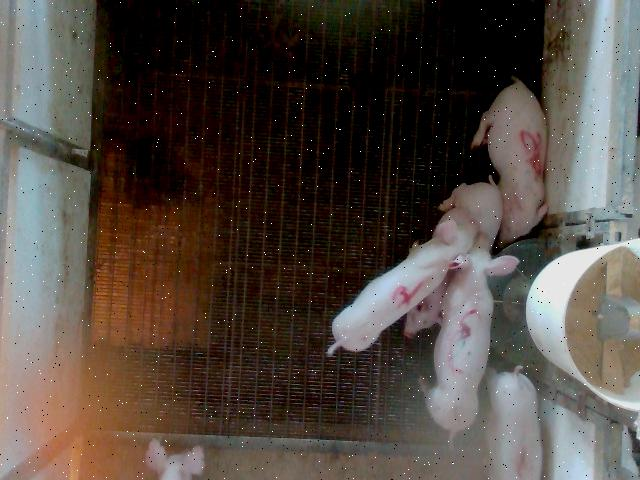pig-1: (486, 365, 542, 478)
pig-3: (425, 234, 519, 443)
pig-4: (328, 219, 478, 354)
pig-5: (471, 78, 548, 247)
